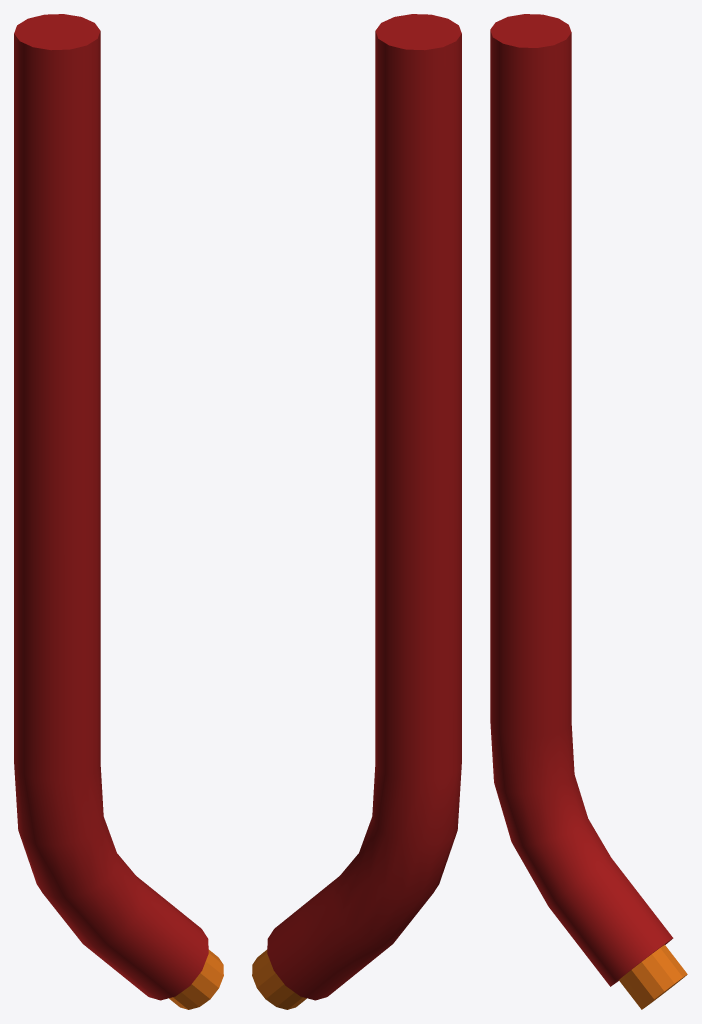
File: powerline.fbx
3 renders of one model, left to right at view 1: azimuth 30°, elevation 25°; view 2: azimuth 150°, elevation 25°; view 3: azimuth 330°, elevation 25°, orthographic. The views are drawn at different scales.
Parts seen in each view (by area): view 1: powerline; view 2: powerline; view 3: powerline.
Part boxes in pixels (x1,y1,x2,y2): powerline: (14,14,223,1009); powerline: (252,14,461,1009); powerline: (490,14,687,1009).
Bounding box in the file's own units: 5.31 × 25.62 × 1.95.
